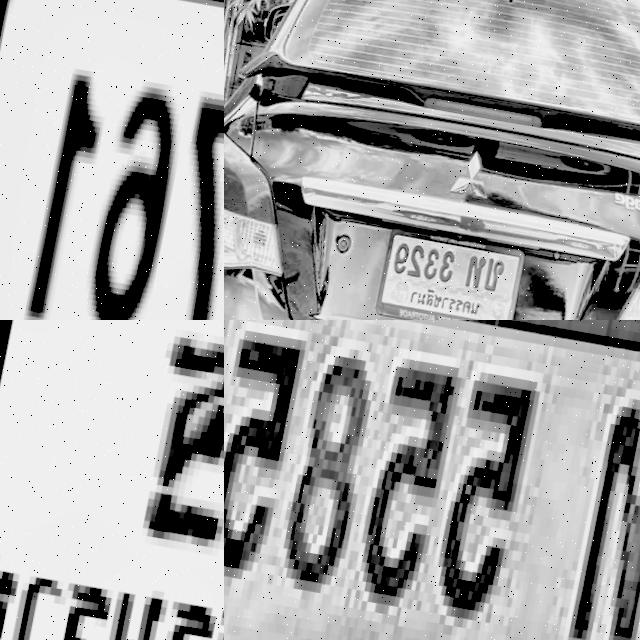license-plate: (224, 320, 640, 640), (0, 0, 224, 320), (0, 320, 224, 640), (374, 224, 528, 320)
